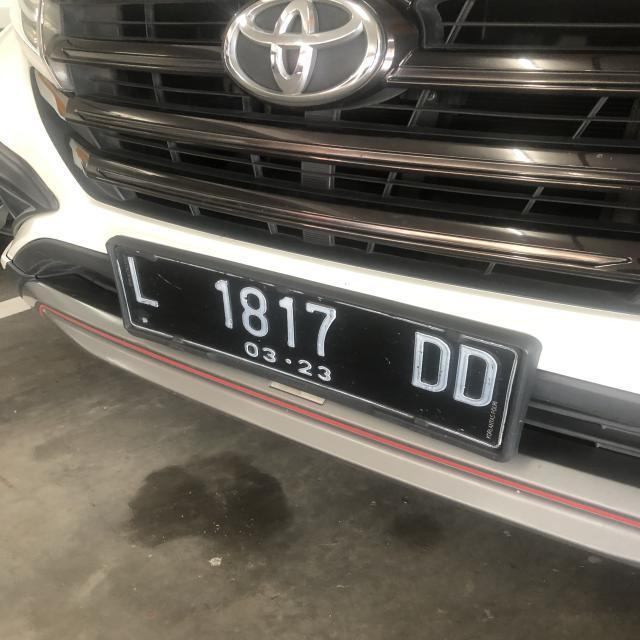1: (274, 291, 304, 350), (209, 278, 239, 330)
7: (304, 300, 341, 356)
8: (237, 283, 270, 340)
D: (452, 342, 499, 410), (412, 330, 452, 397)
L: (122, 252, 170, 316)
